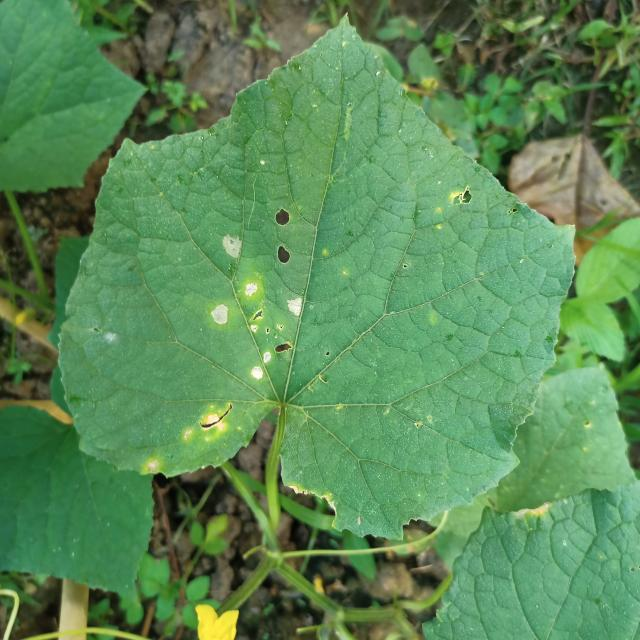disease_cucumber: (198, 224, 306, 391)
